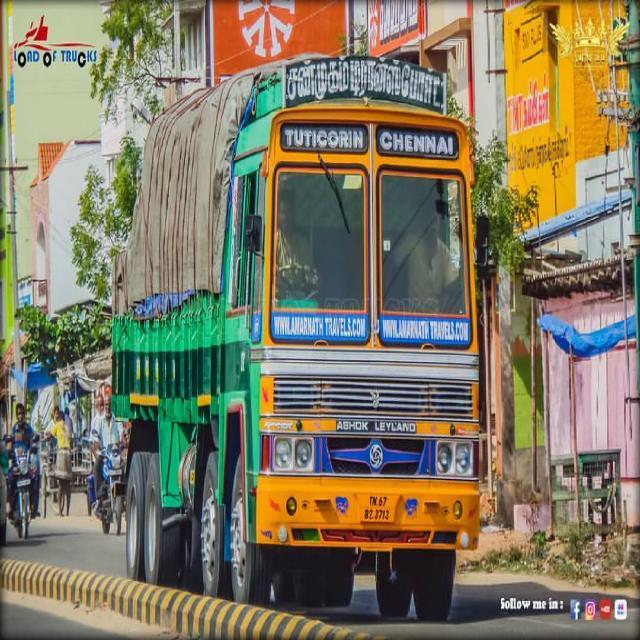Truck: (107, 49, 490, 634)
